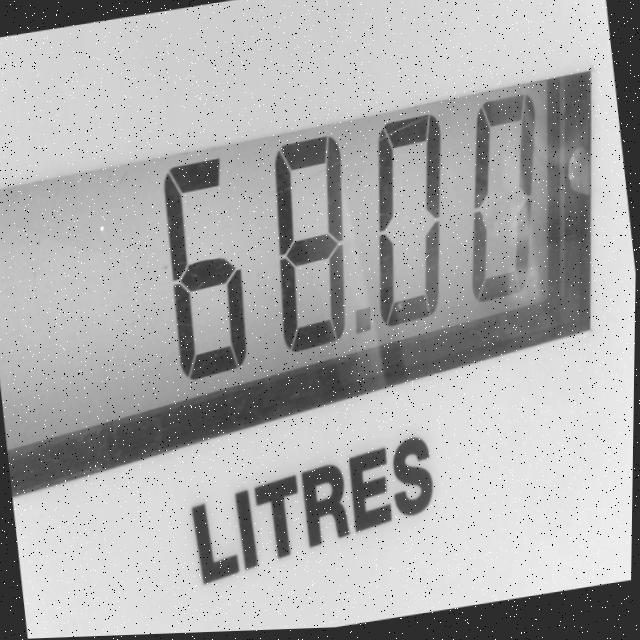.: (351, 300, 383, 364)
0: (358, 110, 468, 343), (451, 96, 553, 313)
6: (154, 158, 256, 376)
8: (265, 142, 359, 357)
